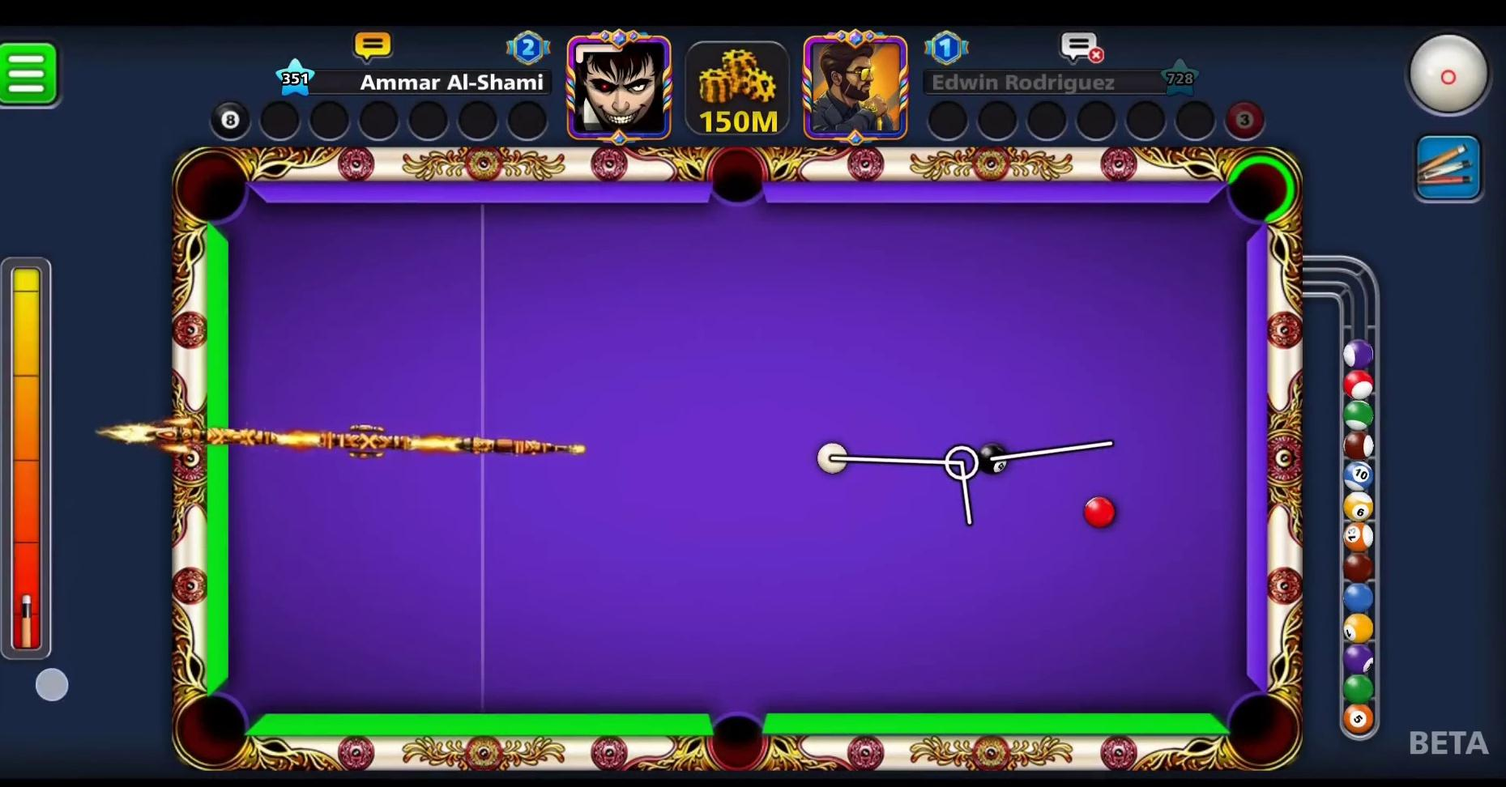Ball: (1075, 491, 1122, 534), (974, 440, 1009, 476)
Force: (2, 257, 55, 656)
Guideline: (817, 440, 1114, 525)
Hole: (1210, 679, 1309, 778), (170, 683, 262, 776), (166, 143, 260, 232), (1216, 143, 1308, 232), (695, 138, 777, 215), (698, 701, 778, 776)
Play_Area: (224, 202, 1244, 718)
Spin: (1401, 25, 1504, 127)
White: (808, 438, 851, 479)
